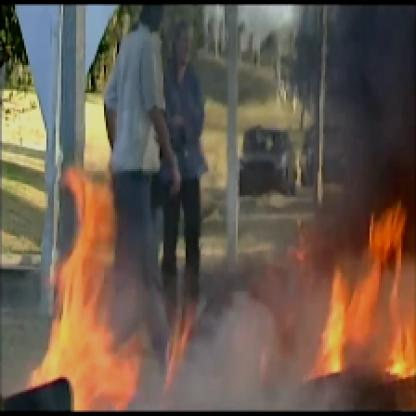Fire: (39, 156, 414, 414)
